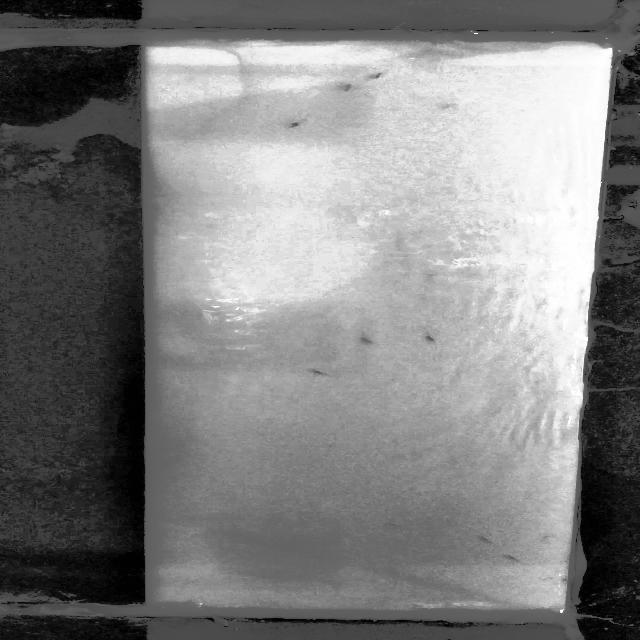shrimp: (358, 335, 391, 353), (288, 112, 311, 130), (473, 534, 500, 547), (369, 67, 393, 81), (307, 366, 333, 378), (334, 81, 356, 94), (502, 554, 523, 565), (420, 334, 440, 344), (385, 522, 403, 530)
